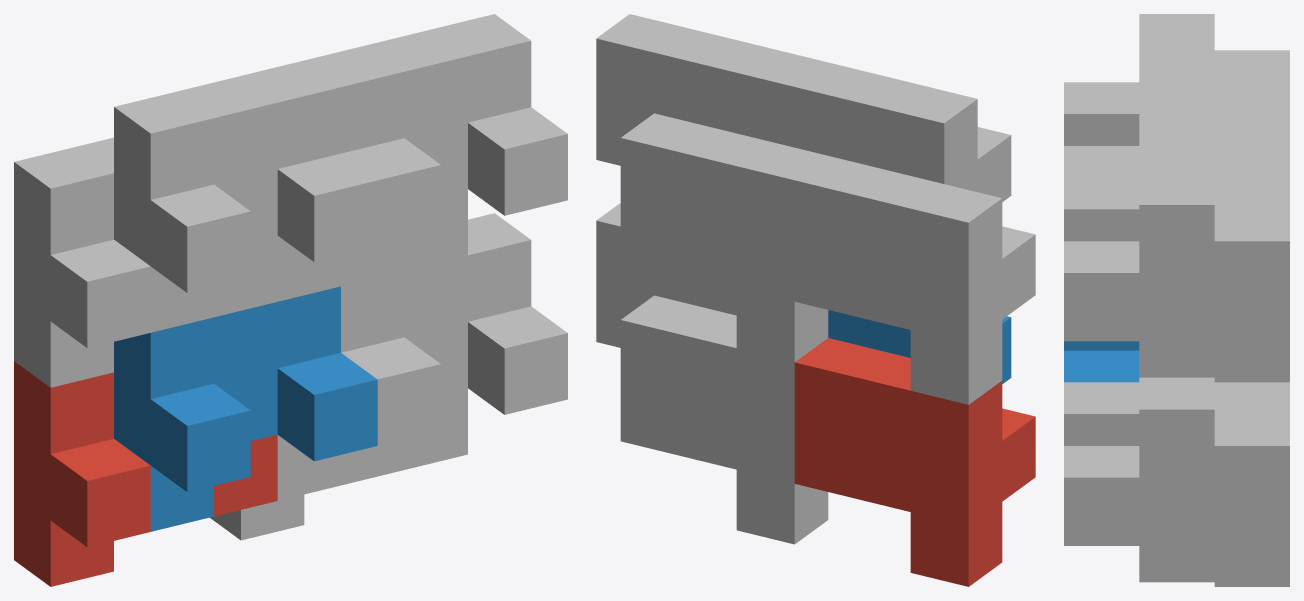
Rendered from tiling.obj.
The picture shows the model from 3 angles, left to right: view 1: azimuth 30°, elevation 25°; view 2: azimuth 150°, elevation 25°; view 3: azimuth 270°, elevation 25°; orthographic projection. The views are drawn at different scales.
Visible parts, largest first — view 1: copy_1_domain_4, copy_1_domain_2, copy_1_domain_8, copy_1_domain_6, copy_1_domain_3, copy_1_domain_1, copy_1_domain_5, copy_1_domain_7; view 2: copy_1_domain_3, copy_1_domain_1, copy_1_domain_7, copy_1_domain_5, copy_1_domain_4, copy_1_domain_8, copy_1_domain_6, copy_1_domain_2; view 3: copy_1_domain_8, copy_1_domain_6, copy_1_domain_7, copy_1_domain_5, copy_1_domain_4, copy_1_domain_3, copy_1_domain_2.
Boxes of the visible parts, x1,y1,x2,y2 form: copy_1_domain_4: (114,60,377,332); copy_1_domain_2: (114,286,377,531); copy_1_domain_8: (304,14,567,286); copy_1_domain_6: (341,213,567,485); copy_1_domain_3: (14,137,277,387); copy_1_domain_1: (14,361,277,586); copy_1_domain_5: (210,388,467,540); copy_1_domain_7: (277,189,467,301); copy_1_domain_3: (794,156,1035,404); copy_1_domain_1: (794,338,1035,586); copy_1_domain_7: (620,113,828,362); copy_1_domain_5: (620,295,828,544); copy_1_domain_4: (770,56,1011,201); copy_1_domain_8: (596,14,803,165); copy_1_domain_6: (596,203,736,347); copy_1_domain_2: (828,310,1011,383); copy_1_domain_8: (1064,109,1214,341); copy_1_domain_6: (1064,377,1214,545); copy_1_domain_7: (1139,146,1289,382); copy_1_domain_5: (1139,382,1289,586); copy_1_domain_4: (1064,14,1214,177); copy_1_domain_3: (1214,50,1289,145); copy_1_domain_2: (1064,341,1139,382).
Bounding box in the file's own units: 7 × 7 × 3.
